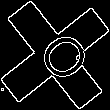O_SW: (22, 22, 88, 88)
